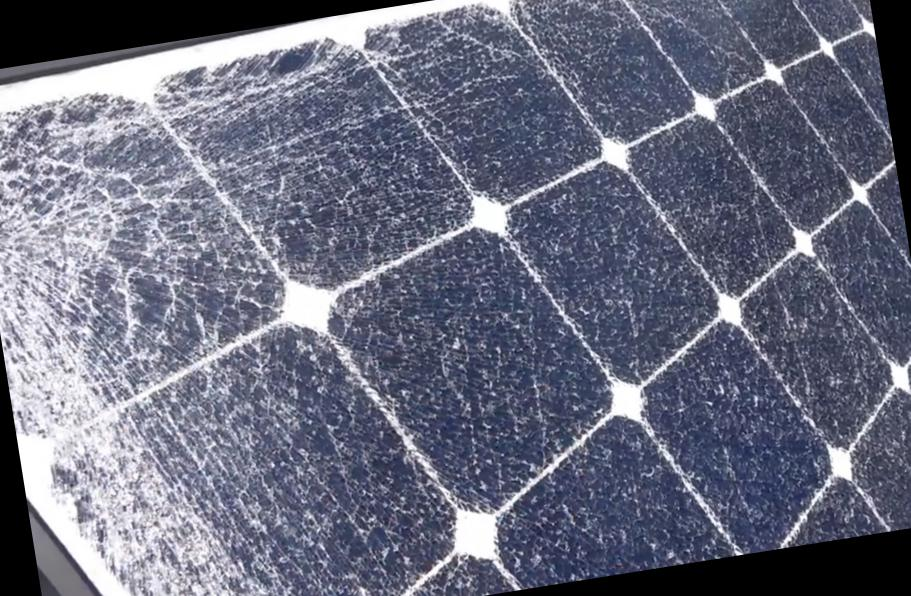Crack: (0, 80, 259, 475), (31, 418, 358, 595), (145, 31, 383, 126)
